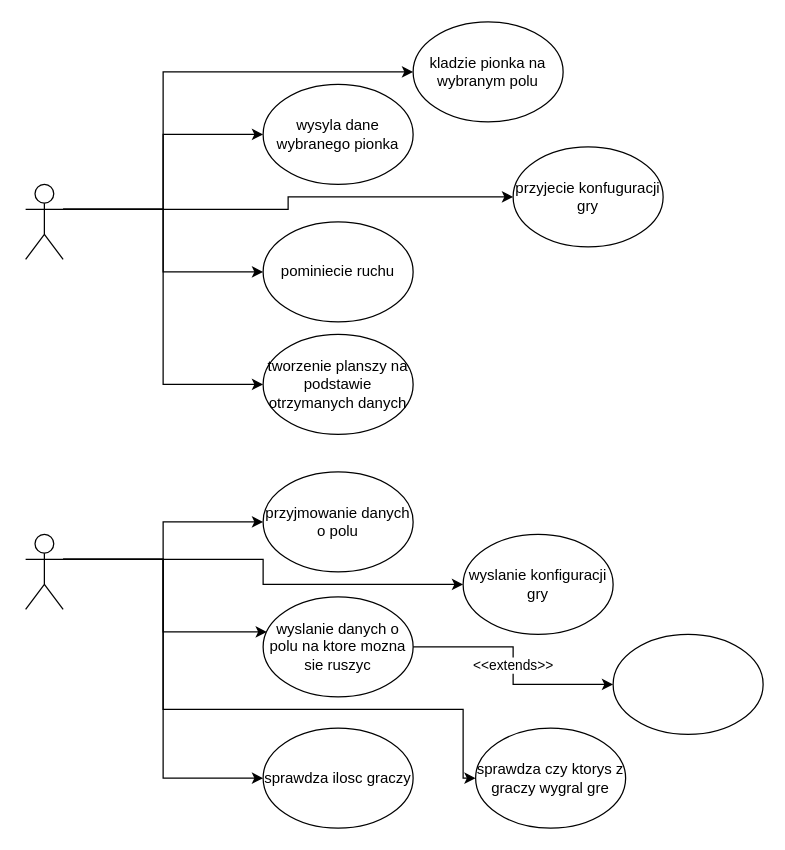
This 785x850 diagram has some shape labels left out. The centre of each missing label's shape, as x and y in pixels:
client: pixel 43 221
jezeli przeskoczono pionka pokazuje nastepne mozliwe pola: pixel 687 683
serwer: pixel 43 571
